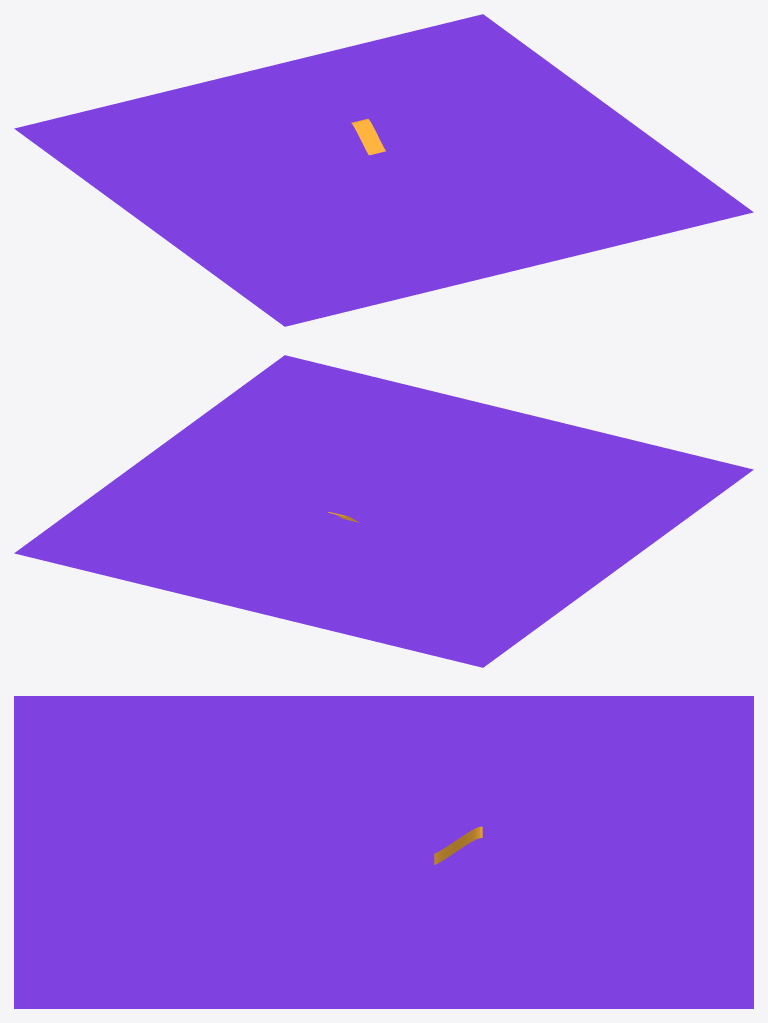
Rendered from world.obj.
3 renders of one model, top to bottom at view 1: azimuth 30°, elevation 25°; view 2: azimuth 150°, elevation 25°; view 3: azimuth 270°, elevation 25°, orthographic. The views are drawn at different scales.
Parts seen in each view (by area): view 1: Plane, Plane.001; view 2: Plane; view 3: Plane, Plane.001.
Part boxes in pixels (x1,y1,x2,y2): Plane: [14, 14, 753, 326]; Plane.001: [351, 118, 385, 155]; Plane: [14, 355, 753, 667]; Plane: [14, 696, 753, 1008]; Plane.001: [434, 826, 482, 864].
Size of the model in its own units: 54.5 by 2.27 by 54.5.
2 materials, 2 textured.
